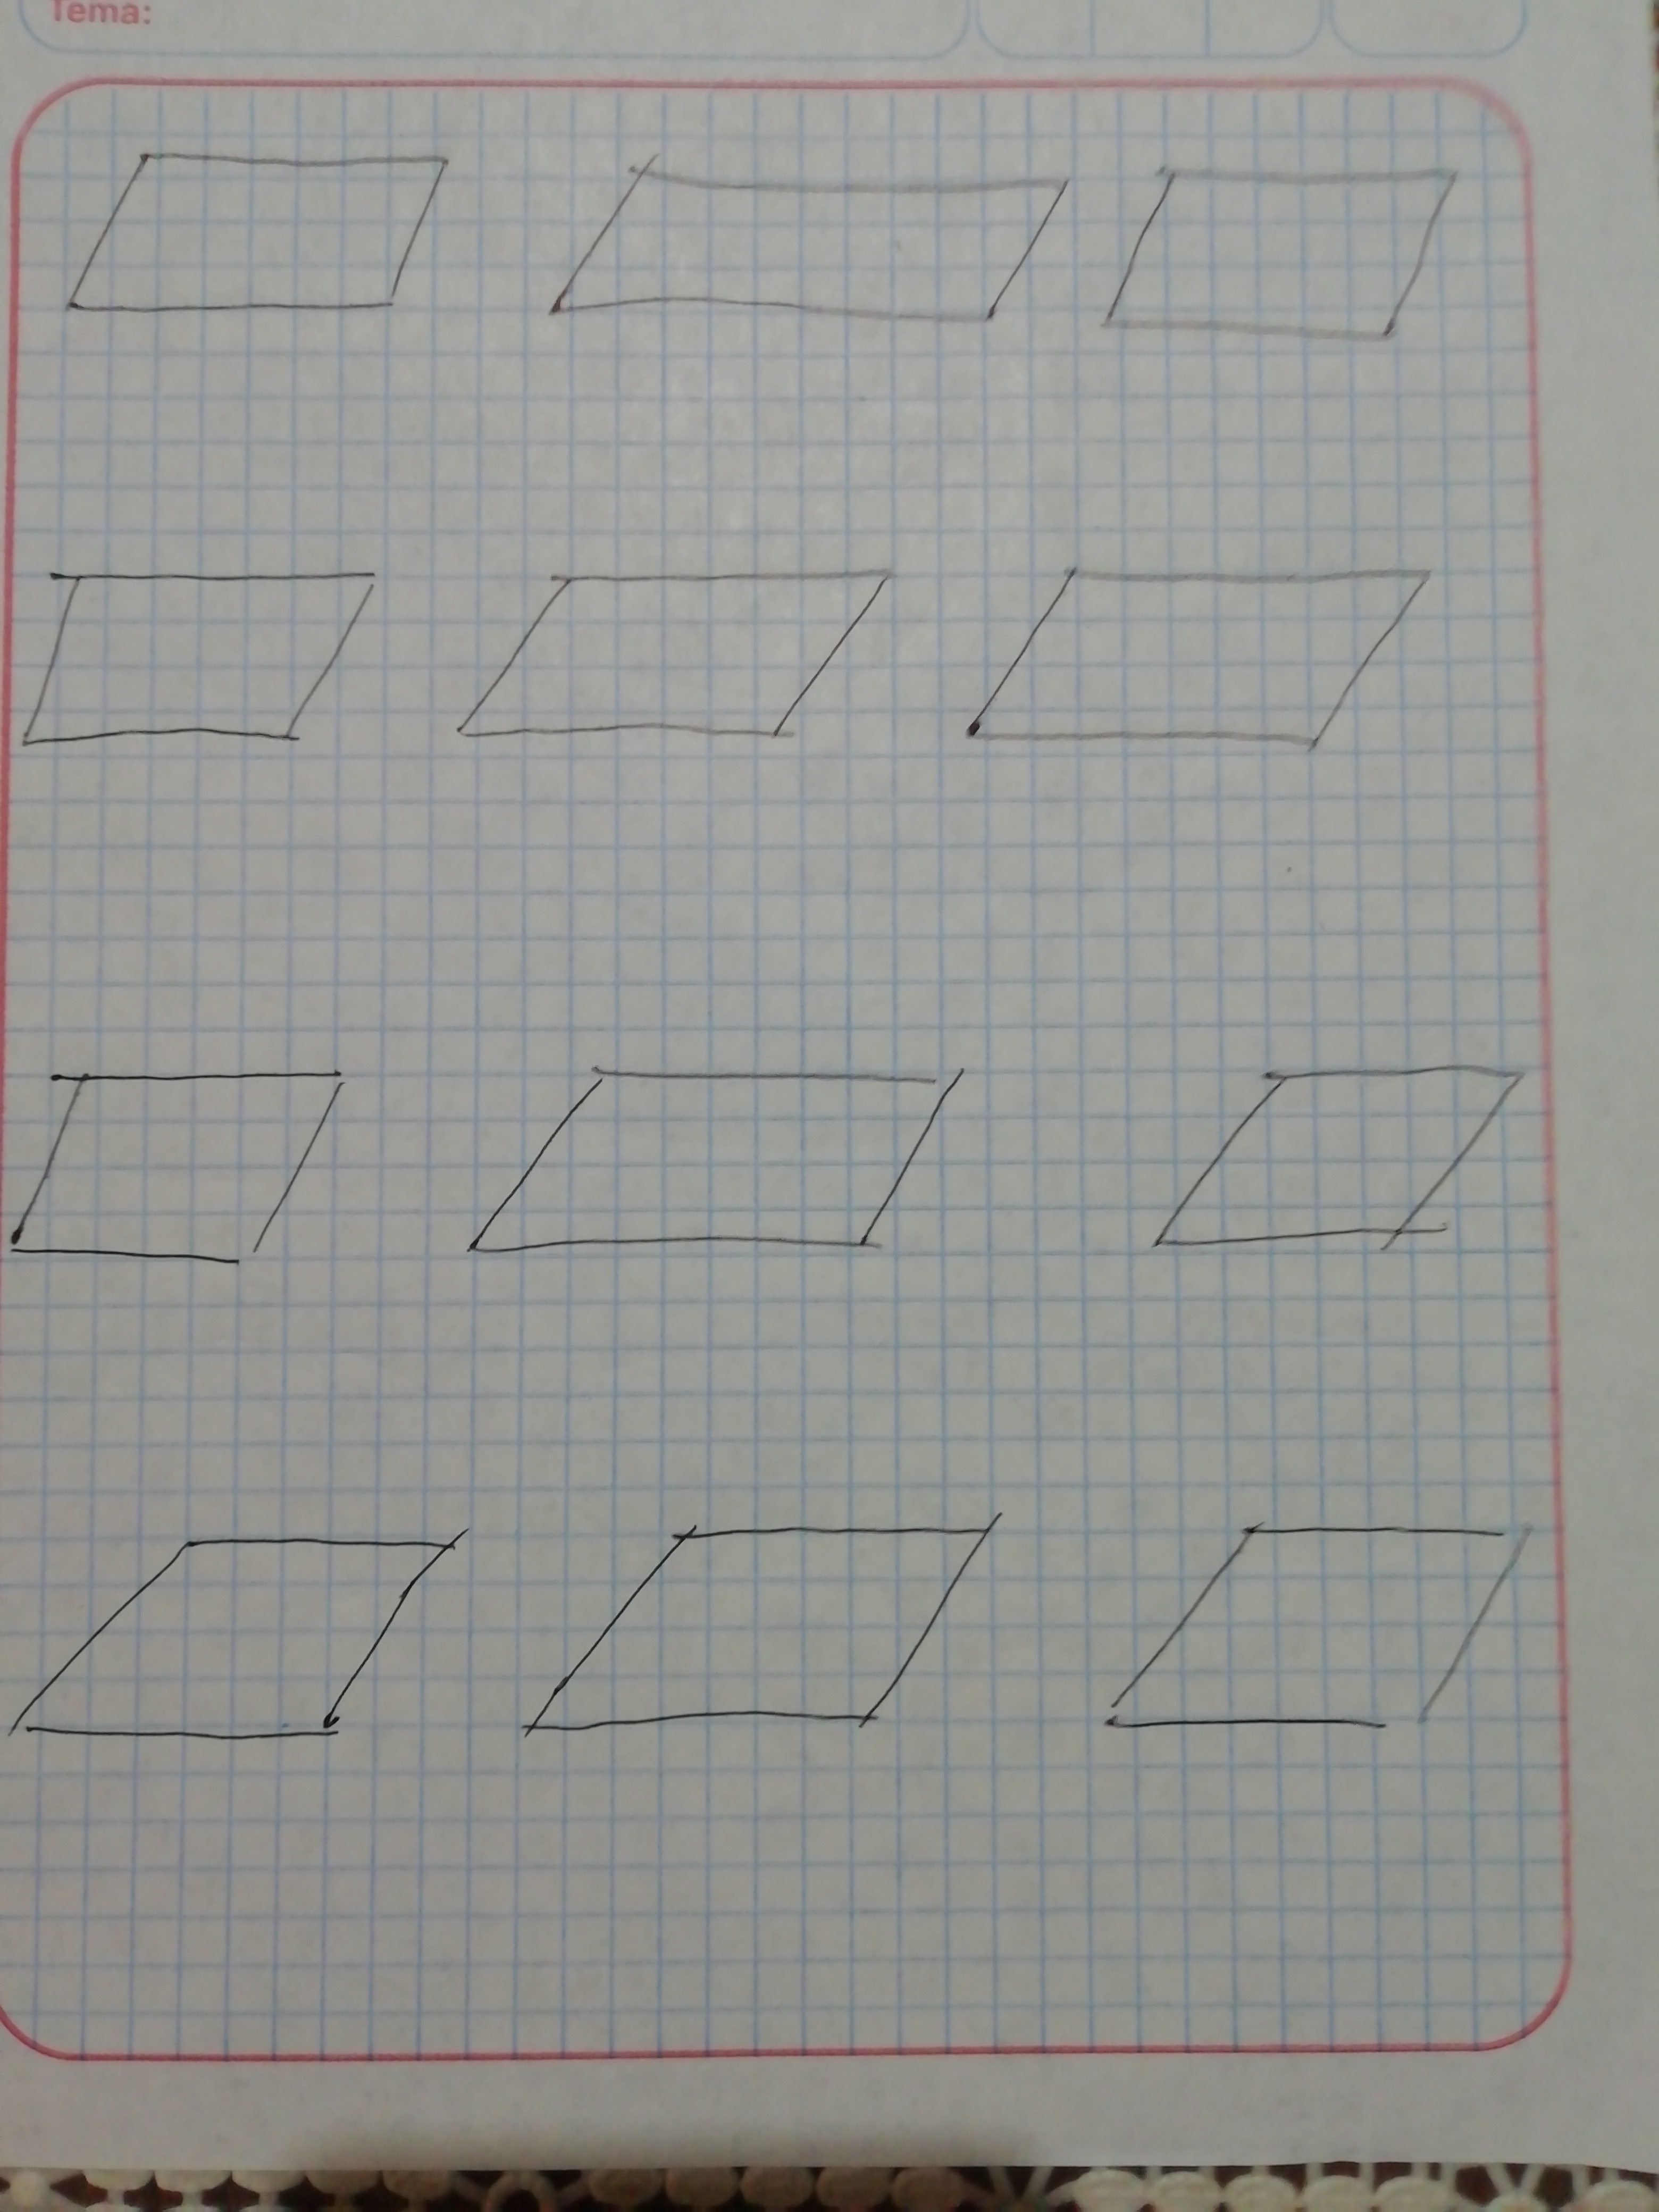scan: (505, 1500, 1037, 1791), (2, 1507, 512, 1797), (1079, 1489, 1554, 1797), (444, 1045, 1006, 1301), (2, 106, 491, 390), (533, 134, 1082, 373), (437, 535, 917, 805), (948, 545, 1469, 784), (1133, 1045, 1572, 1291), (2, 1038, 378, 1318), (2, 535, 399, 798), (1093, 145, 1497, 373)
